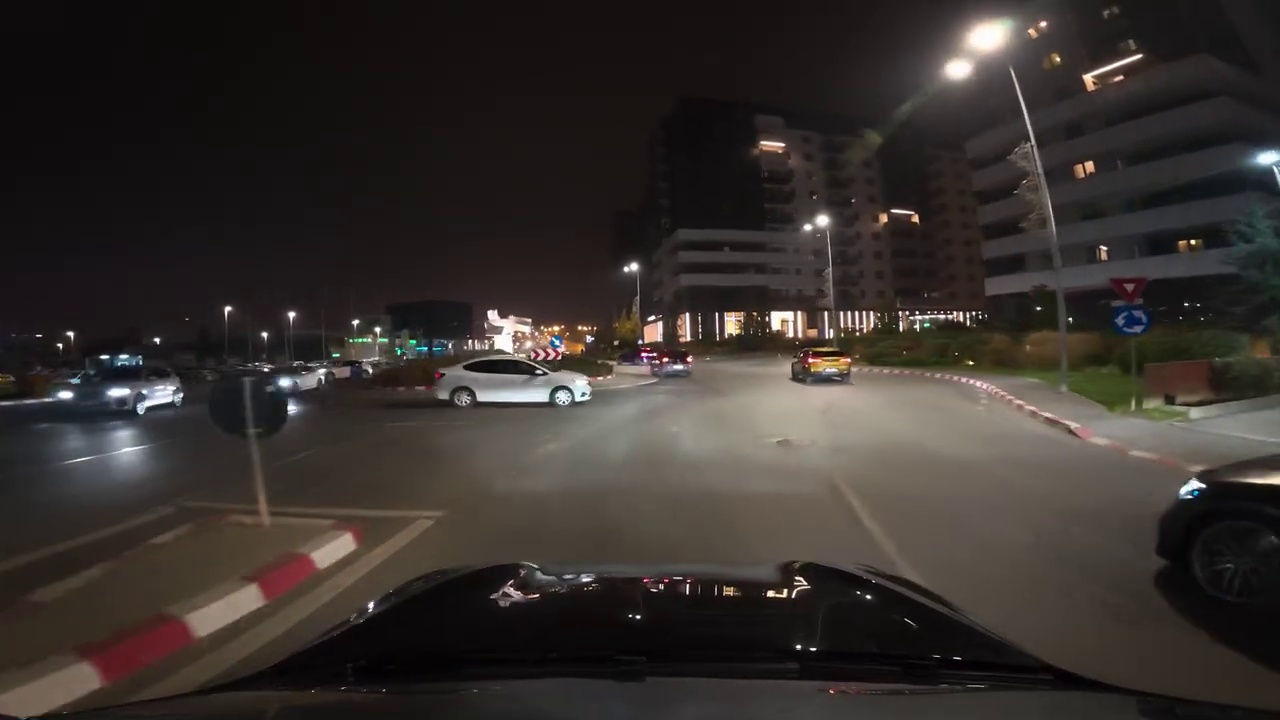acesa: (949, 17, 1012, 78), (961, 18, 1009, 56), (943, 56, 975, 85), (805, 212, 832, 235)
